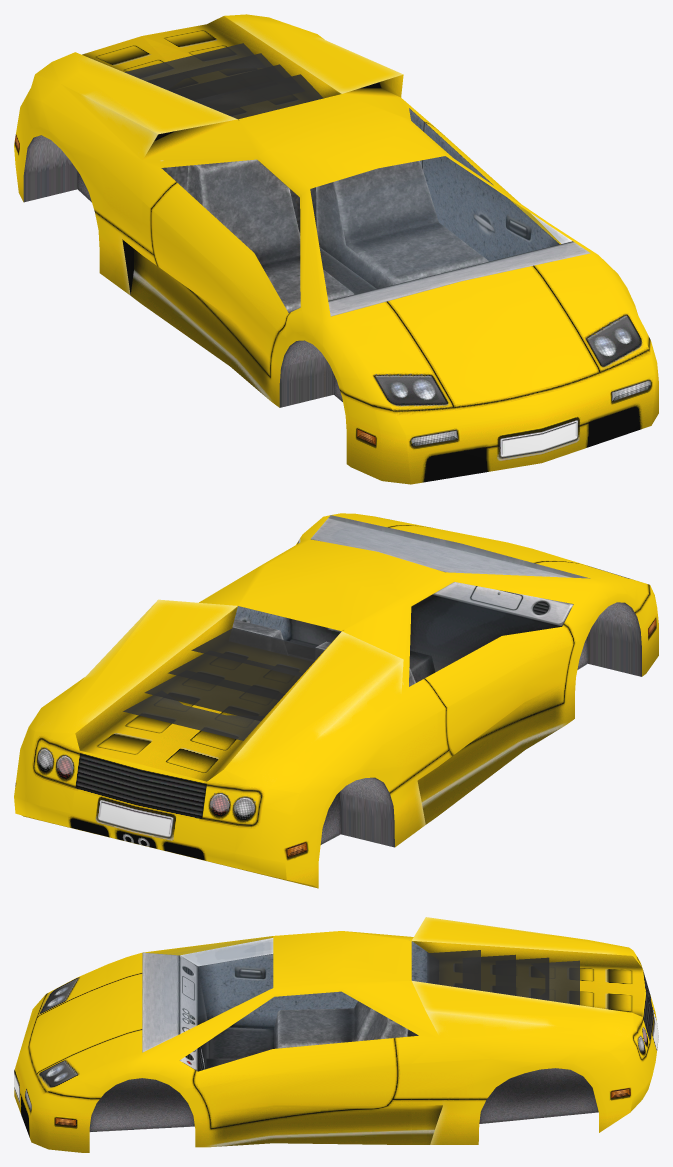
File: diablo_buzpimped_d2672d1ce192.glb
The picture shows the model from 3 angles, top to bottom: view 1: azimuth 30°, elevation 25°; view 2: azimuth 150°, elevation 25°; view 3: azimuth 270°, elevation 25°; orthographic projection. The views are drawn at different scales.
Visible parts, largest first — view 1: BODY, INTERIOR, ADDON_0; view 2: BODY, INTERIOR, ADDON_0; view 3: BODY, INTERIOR, ADDON_0.
Boxes of the visible parts, x1,y1,x2,y2 form: BODY: (14,14,658,484); INTERIOR: (161,108,590,316); ADDON_0: (124,43,323,119); BODY: (14,513,658,888); INTERIOR: (232,515,590,686); ADDON_0: (123,627,324,740); BODY: (14,917,658,1152); INTERIOR: (142,941,427,1071); ADDON_0: (427,950,579,1005).
Bounding box in the file's own units: 1.85 × 1.08 × 4.44.
6 materials, 6 textured.
